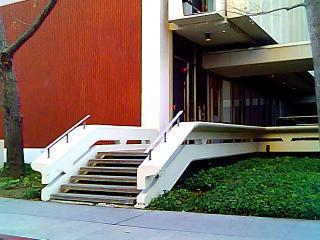Escaleras: (48, 140, 167, 206)
